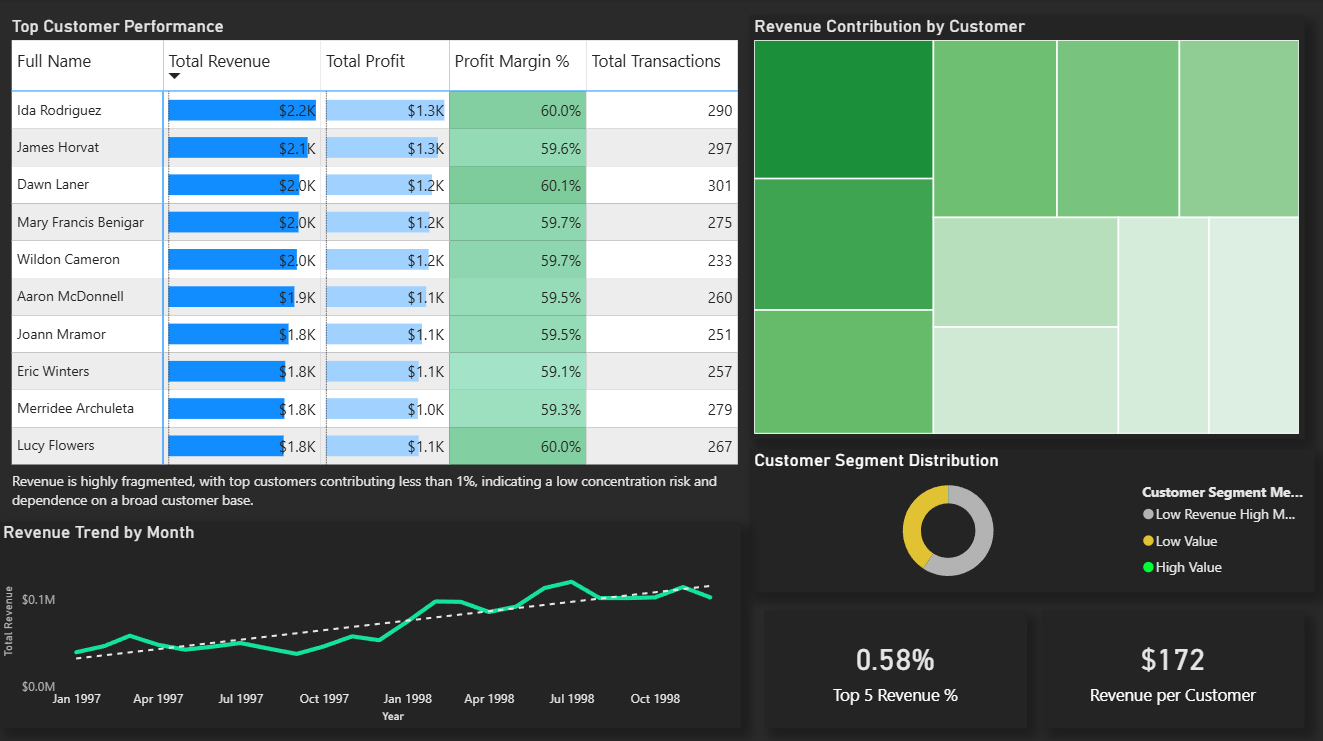

The page's visual inventory and layout, read from the dashboard file:
{"tool":"powerbi","page":{"name":"Customer Insights","canvas":[1280,720],"ordinal":3},"visuals":[{"type":"pivotTable","title":"Top Customer Performance","fields":{"Rows":["Customers.Full Name"],"Values":["Metrics.Total Revenue","Metrics.Total Profit","Metrics.Profit Margin %","Metrics.Total Transactions"]},"box":[8.4,15.7,716.6,444],"z":0},{"type":"treemap","title":"Revenue Contribution by Customer","fields":{"Values":["Metrics.Total Revenue"],"Group":["Customers.Full Name"]},"box":[725.1,15.7,535.7,409],"z":1000},{"type":"donutChart","title":"Customer Segment Distribution","fields":{"Category":["Customers.Customer Segment Measure"],"Y":["CountNonNull(Customers.customer_id)"]},"box":[725.1,434.3,545.3,138.7],"z":2000},{"type":"card","fields":{"Values":["Metrics.Top 5 Revenue %"]},"box":[739.5,589.9,253.4,113.4],"z":3000},{"type":"lineChart","title":"Revenue Trend by Month","fields":{"Y":["Metrics.Total Revenue"],"Category":["Calendar.date.Variation.Date Hierarchy.Year","Calendar.date.Variation.Date Hierarchy.Month"]},"box":[0,504.3,716.6,199.1],"z":4000},{"type":"textbox","box":[8.4,451.2,708.2,53.1],"z":5000},{"type":"card","fields":{"Values":["Metrics.Revenue per Customer"]},"box":[1007.4,589.9,253.4,113.4],"z":6000}]}

Visuals, with their boxes in screenshot pixels (x1, y1, x2, y2), scaled from the page's 1280x720 canvas onto the 1323x741 screenshot:
"Top Customer Performance" pivotTable: locate(9, 16, 749, 473)
"Revenue Contribution by Customer" treemap: locate(749, 16, 1303, 437)
"Customer Segment Distribution" donutChart: locate(749, 447, 1313, 590)
card - Metrics.Top 5 Revenue %: locate(764, 607, 1026, 724)
"Revenue Trend by Month" lineChart: locate(0, 519, 741, 724)
textbox: locate(9, 464, 741, 519)
card - Metrics.Revenue per Customer: locate(1041, 607, 1303, 724)
